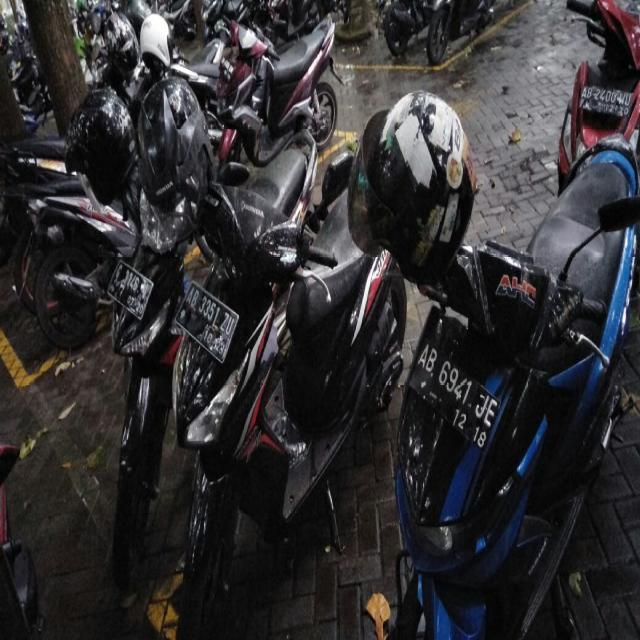plate: (406, 339, 499, 454), (176, 280, 239, 363), (105, 257, 153, 318)
